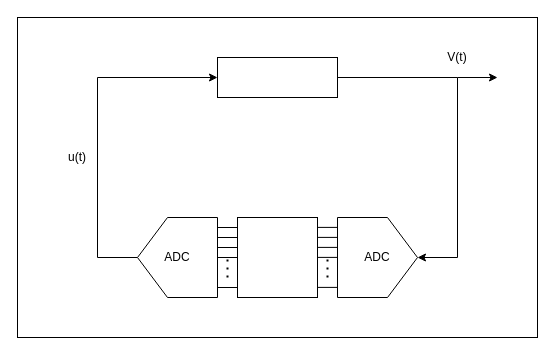
Some shapes in this 555 by 355 pixel diagram are drawn without their labels. The shapes that lost their labels are listed below. From the top down, each one's centre as x and y in pixels, then its label:
the point at 277,77: Time varing Analog Model of the System
the point at 277,257: digital controller
